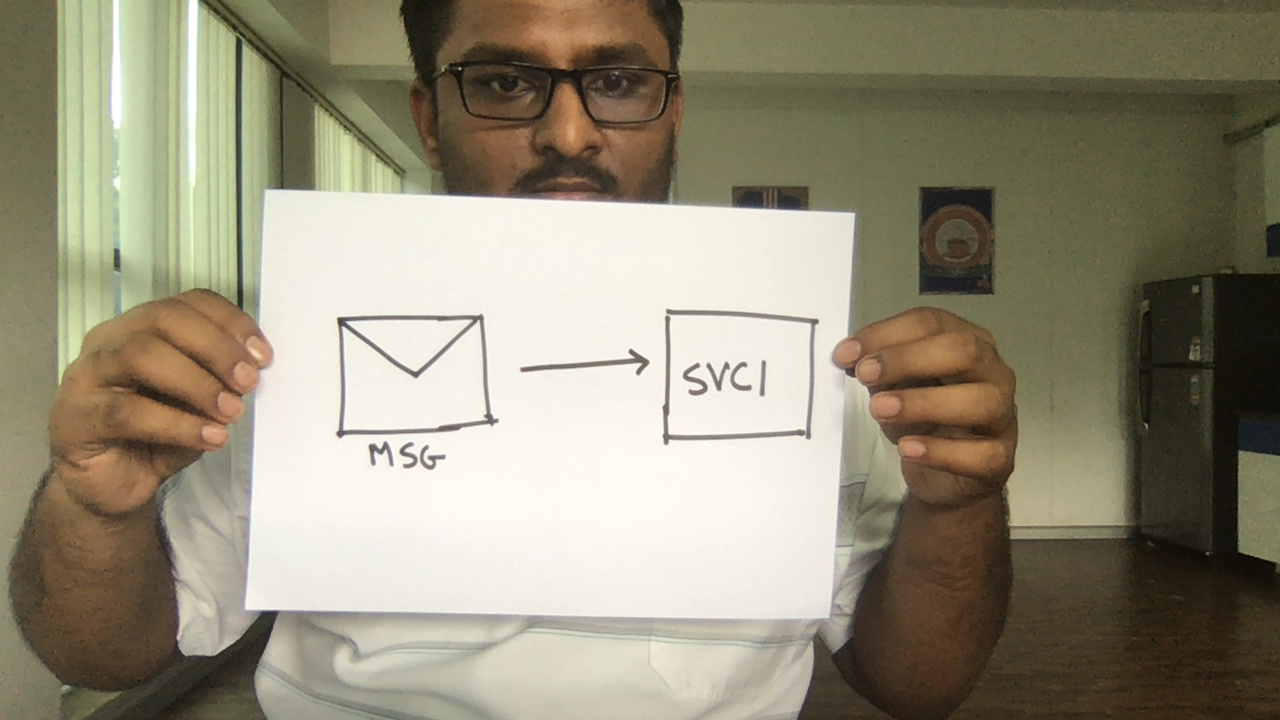arrow: (513, 330, 655, 412)
ec2: (654, 298, 827, 465)
sns: (329, 308, 503, 478)
